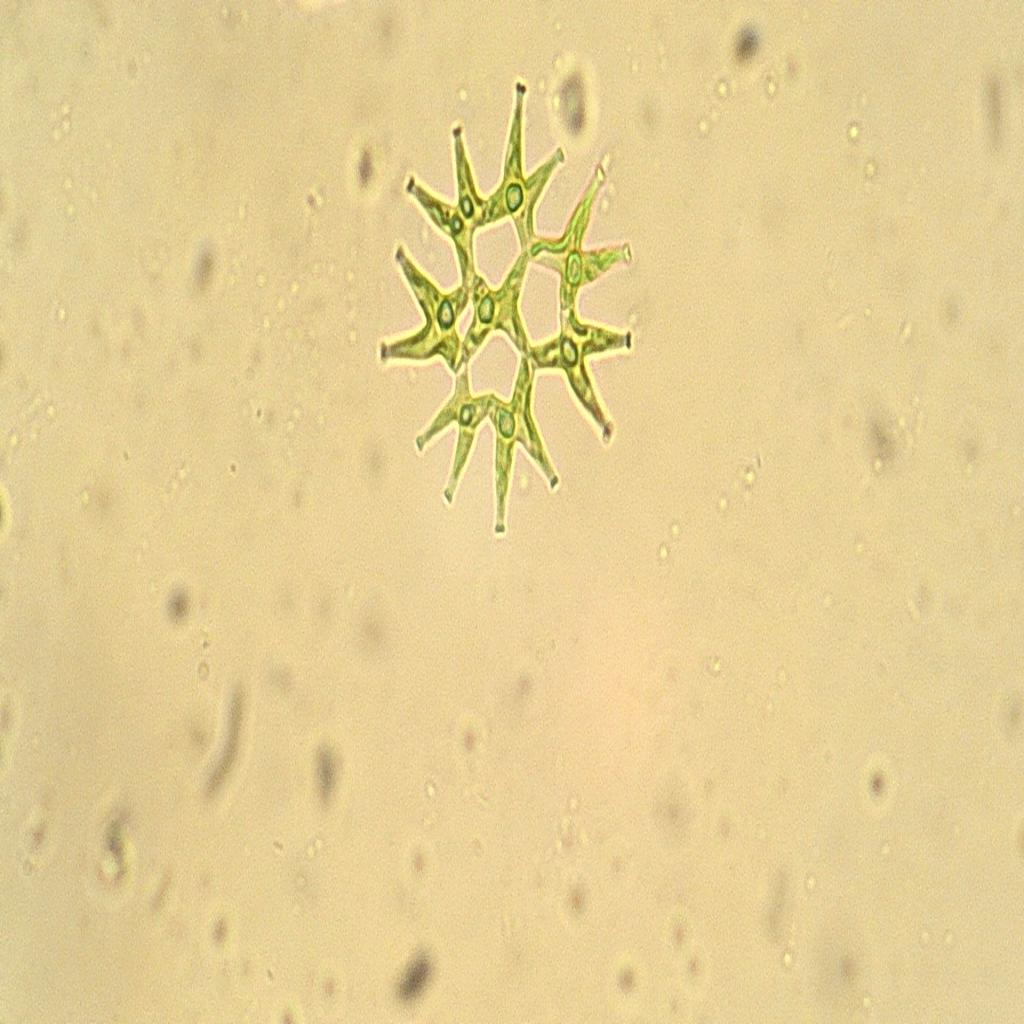Pediastrum_CTH: (374, 61, 648, 545)
